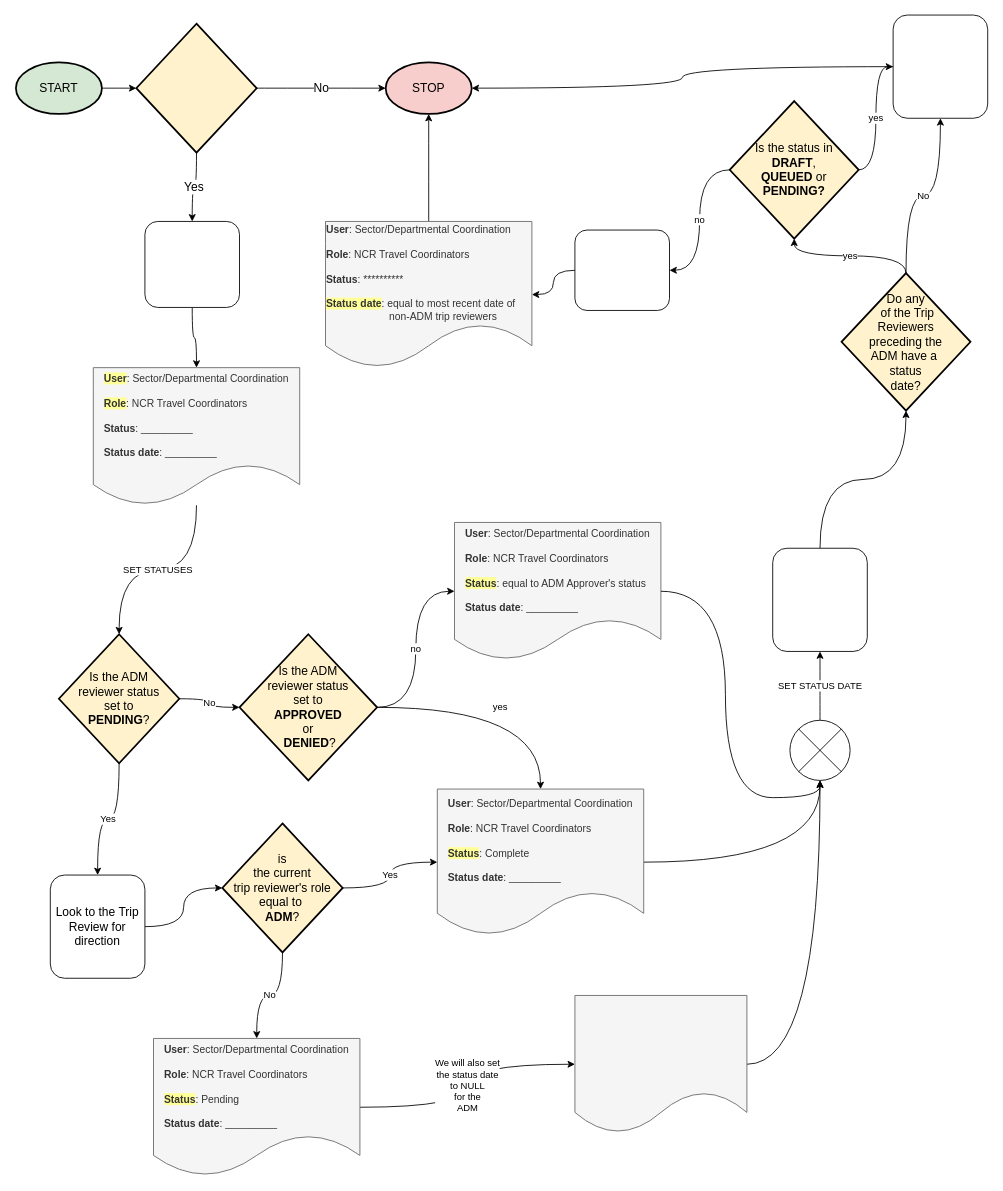
Some shapes in this 1003 by 1191 pixel diagram are drawn without their labels. The centre of each missing label's shape, as x and y in pixels:
Add a new "fake" approver in the queue in front of ADM: (x=192, y=264)
Again, we look to the Trip Review for direction: (x=819, y=599)
Do nothing: (x=940, y=66)
Is there an existing approver with the role of ADM?: (x=196, y=87)
Use the most recent date from non-ADM reviewers: (x=622, y=269)
User : Arran McPherson Role : ADM Status : Queued Status date : _________: (x=660, y=1064)
